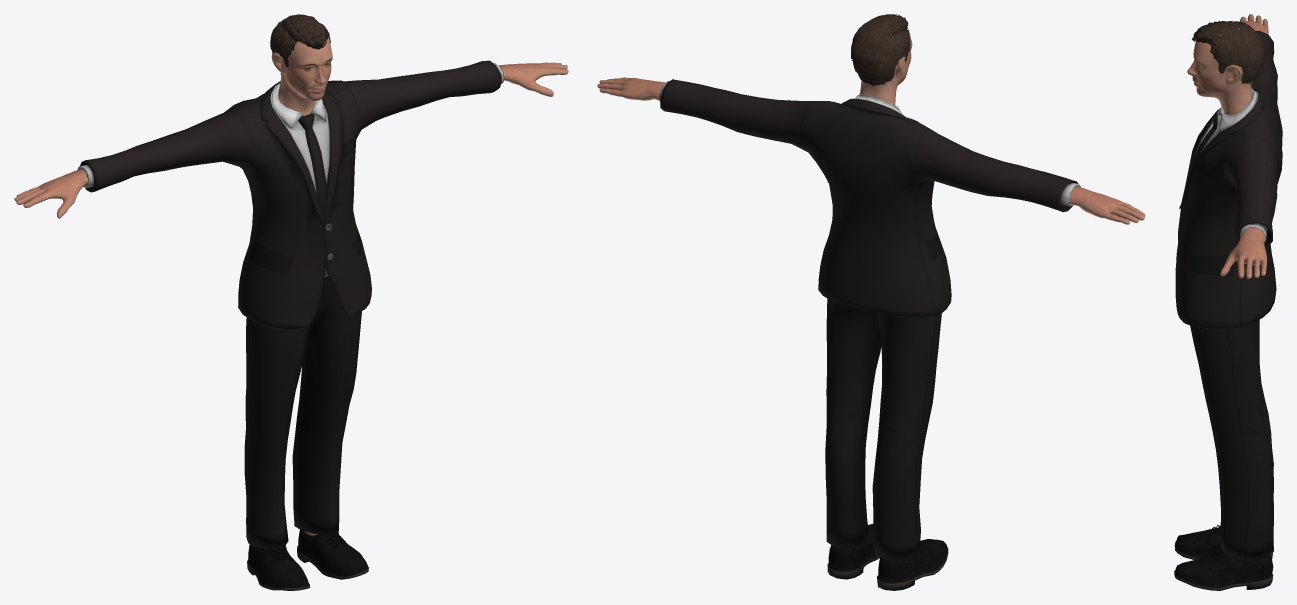
Rendered from A_Elegante.obj.
3 views of the same model, side by side, from view 1: azimuth 30°, elevation 25°; view 2: azimuth 150°, elevation 25°; view 3: azimuth 270°, elevation 25° (orthographic).
Parts seen in each view (by area): view 1: Tops, Bottoms, Body, Shoes, Hair; view 2: Tops, Bottoms, Body, Shoes, Hair; view 3: Tops, Bottoms, Body, Shoes, Hair.
Boxes of the visible parts, left/top/right/bottom form: Tops: left=77, top=60, right=504, bottom=329; Bottoms: left=244, top=263, right=361, bottom=549; Body: left=14, top=18, right=568, bottom=535; Shoes: left=247, top=530, right=368, bottom=590; Hair: left=270, top=14, right=330, bottom=66; Tops: left=659, top=79, right=1080, bottom=317; Bottoms: left=825, top=298, right=941, bottom=559; Body: left=597, top=28, right=1145, bottom=224; Shoes: left=827, top=524, right=948, bottom=590; Hair: left=851, top=14, right=910, bottom=85; Tops: left=1175, top=31, right=1282, bottom=329; Bottoms: left=1190, top=319, right=1273, bottom=560; Body: left=1187, top=14, right=1268, bottom=278; Shoes: left=1174, top=525, right=1273, bottom=590; Hair: left=1192, top=21, right=1264, bottom=84.
Bounding box in the file's own units: 187 × 180 × 32.31.
Materials: 2 (2 with a texture image).
